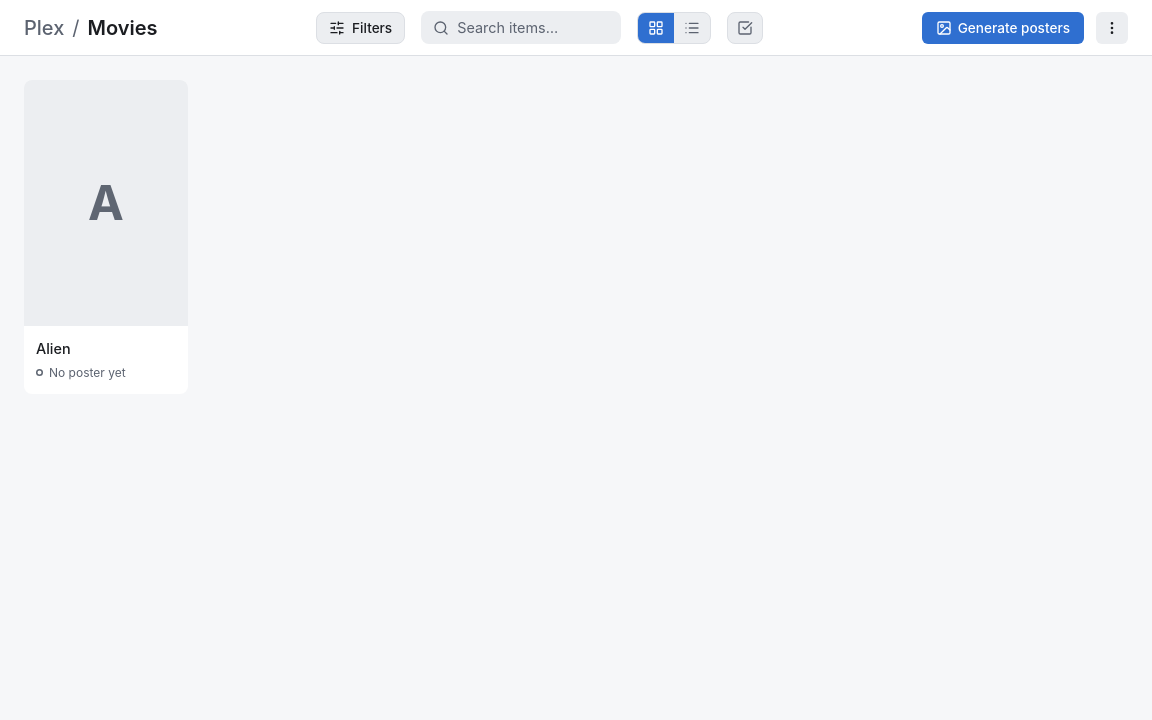
LibraryPage — filter counts › keeps the labels bare rather than showing a number it could not fetch
The width and height of the screenshot is (1152, 720).
What coordinates should you click on to do the following:
click the button "Filters"
I would click on:
 (361, 28)
Its box is [316, 12, 405, 44].
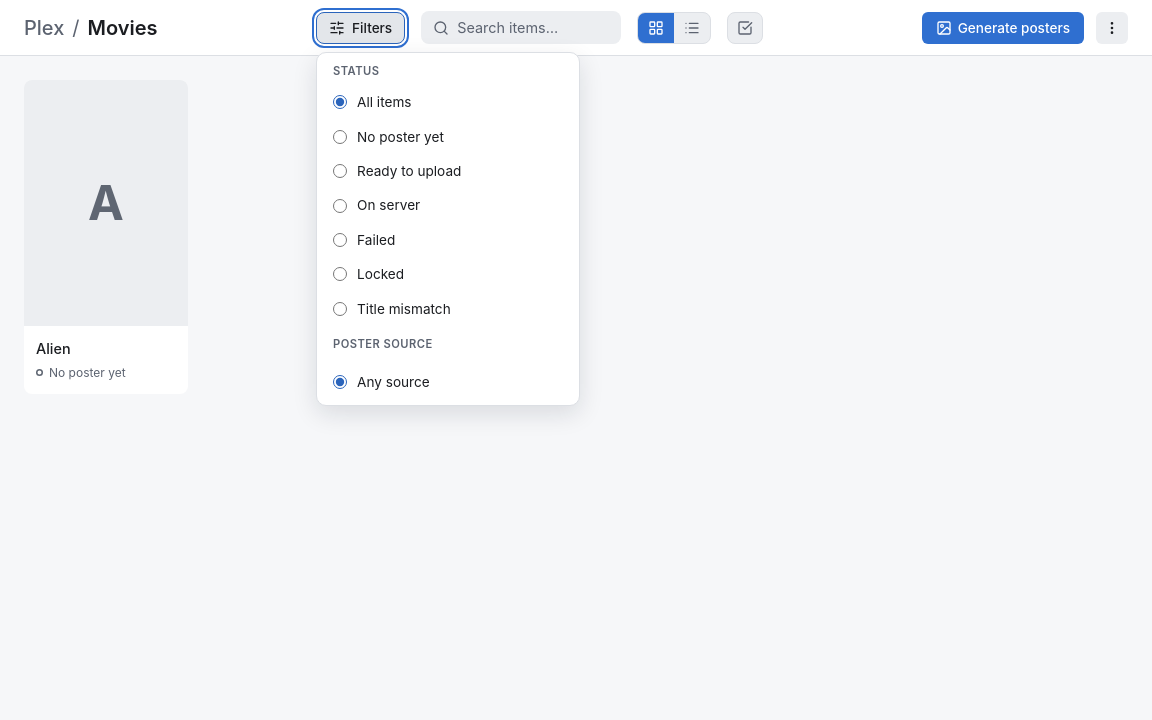
Result: the radio button labelled "All items" is shown at [333, 96, 347, 110]
Result: the radio button labelled "Failed" is shown at [333, 233, 347, 247]
